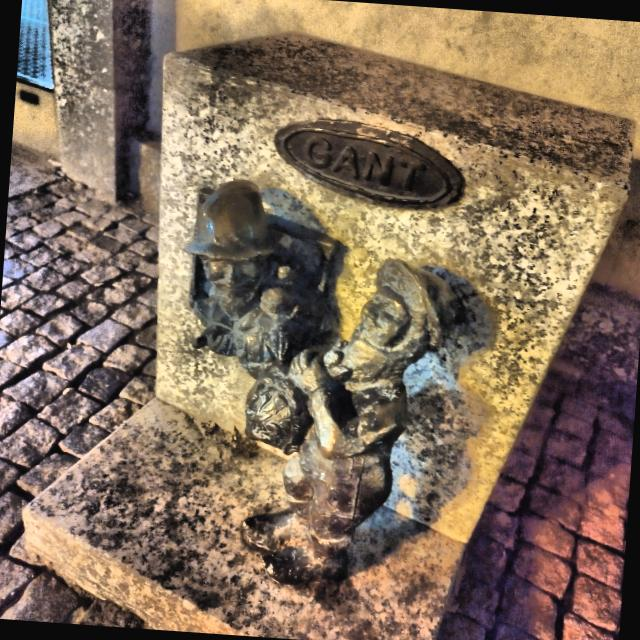Kantorki: (185, 180, 461, 584)
